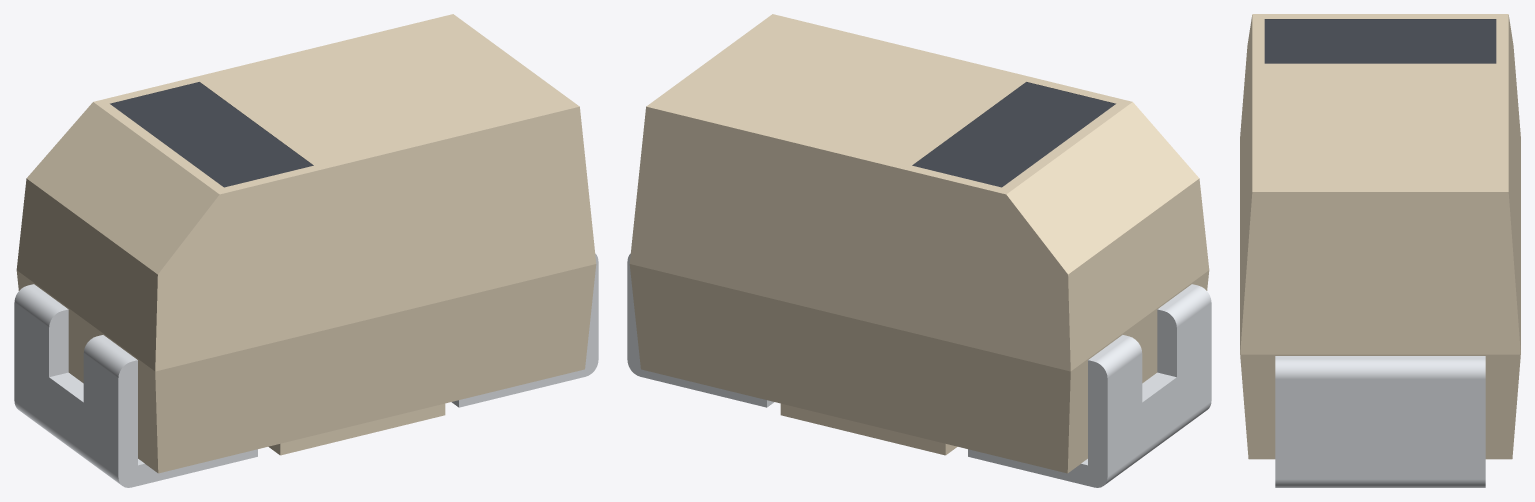
File: cap_tantalo.glb
The picture shows the model from 3 angles, left to right: view 1: azimuth 30°, elevation 25°; view 2: azimuth 150°, elevation 25°; view 3: azimuth 270°, elevation 25°; orthographic projection.
Parts seen in each view (by area): view 1: Cuerpo_Resistencia_2, Pines_1, Encapsulado_0; view 2: Cuerpo_Resistencia_2, Pines_1, Encapsulado_0; view 3: Cuerpo_Resistencia_2, Pines_1, Encapsulado_0.
Boxes of the visible parts, x1,y1,x2,y2 form: Cuerpo_Resistencia_2: (16,14,596,473); Pines_1: (14,254,598,487); Encapsulado_0: (110,82,313,187); Cuerpo_Resistencia_2: (629,14,1209,473); Pines_1: (627,254,1211,487); Encapsulado_0: (912,82,1115,187); Cuerpo_Resistencia_2: (1240,14,1520,459); Pines_1: (1275,356,1485,487); Encapsulado_0: (1264,19,1496,63).
Size of the model in its own units: 3.2 by 1.8 by 1.6.
